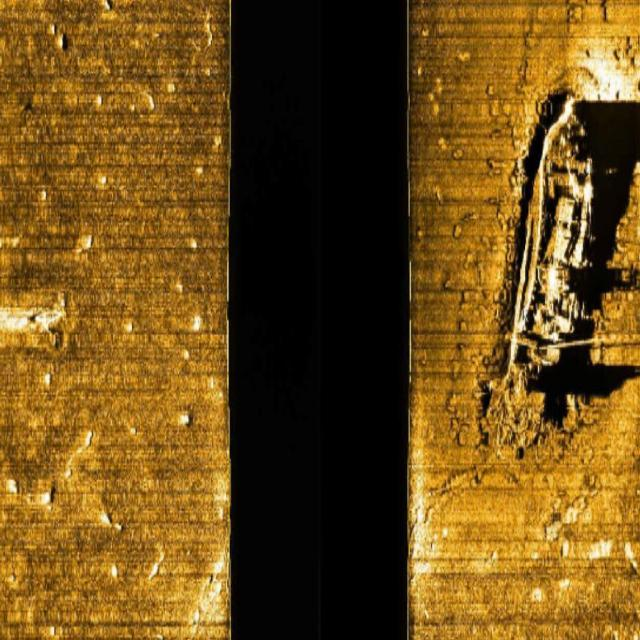shipwreck: (506, 86, 594, 410)
